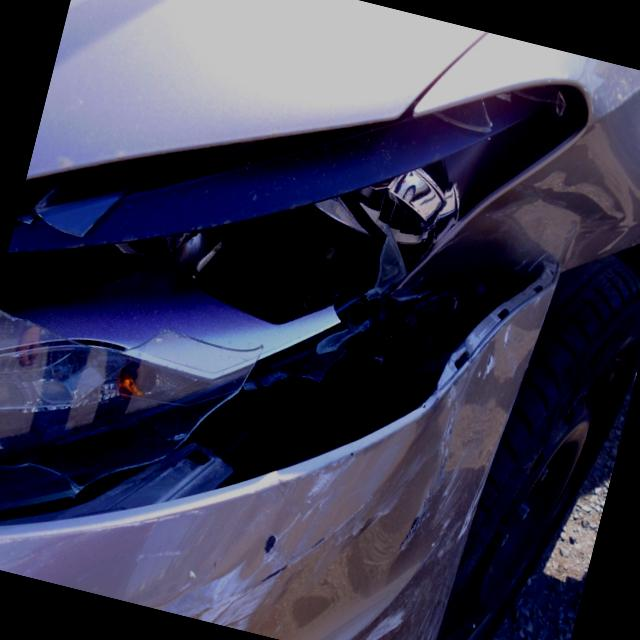Cabossage: (420, 331, 531, 515)
Dechirure: (377, 239, 549, 452), (248, 511, 337, 610), (389, 500, 436, 566)
Phare abime: (0, 61, 466, 632)
Rayure: (152, 548, 281, 636), (337, 590, 451, 640)
